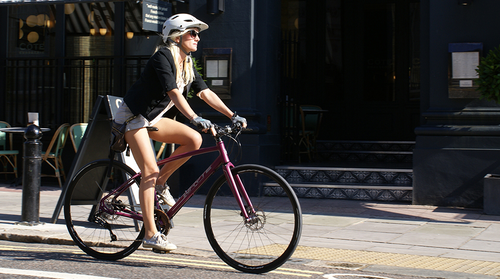bikerider: (58, 7, 302, 279)
